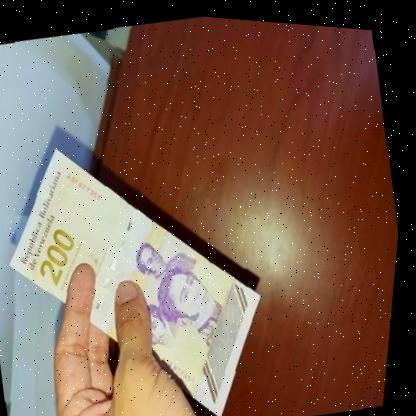two_hundred-front-vef: (0, 102, 302, 416)
